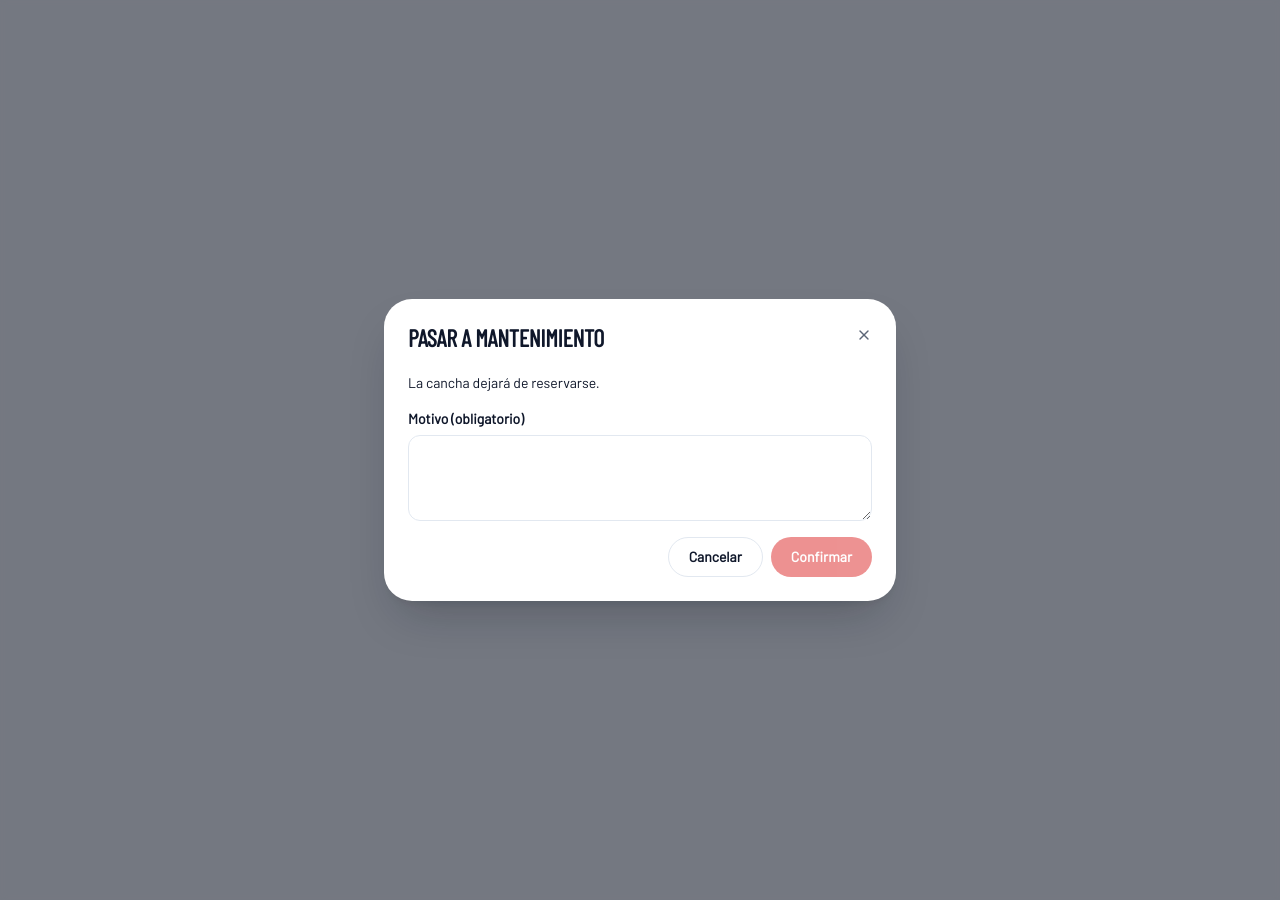
Test case: ModalCambioEstado › rechaza un motivo demasiado corto
The width and height of the screenshot is (1280, 900).
Type "ok" into the text box labelled "Motivo (obligatorio)" at (640, 478), box [408,435,872,521]
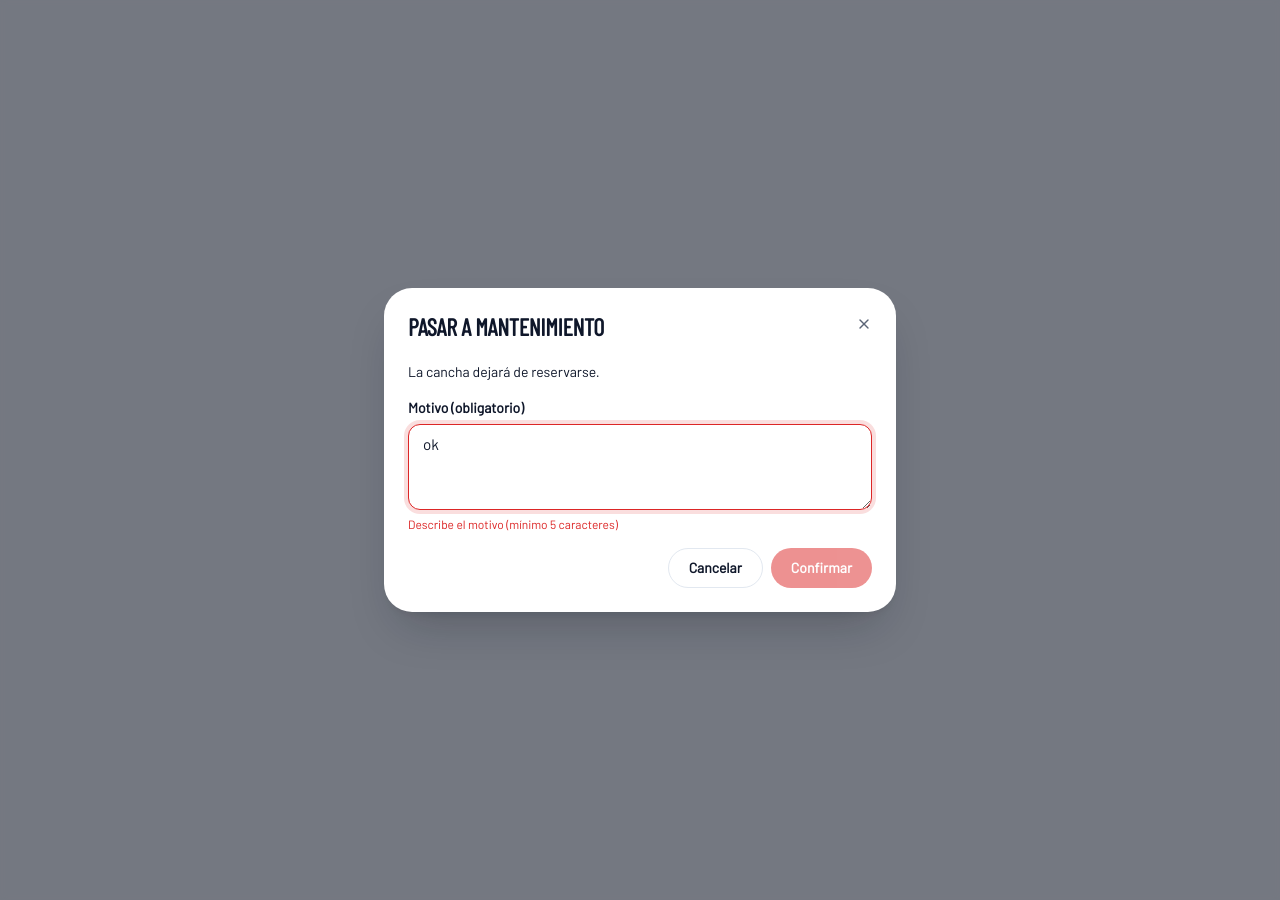
expect the button "Confirmar" is disabled: met, box [771,548,872,588]
expect the text "Describe el motivo (mínimo 5 caracteres)" is shown: met, box [408,517,618,531]
